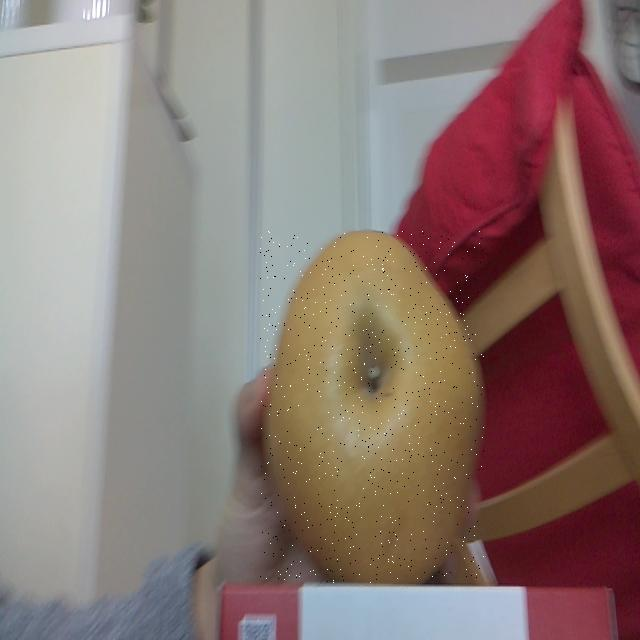pear: (260, 231, 484, 583)
